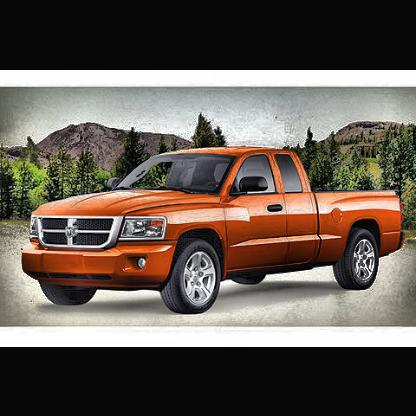Dodge Dakota Club Cab 2007: (21, 145, 407, 318)
